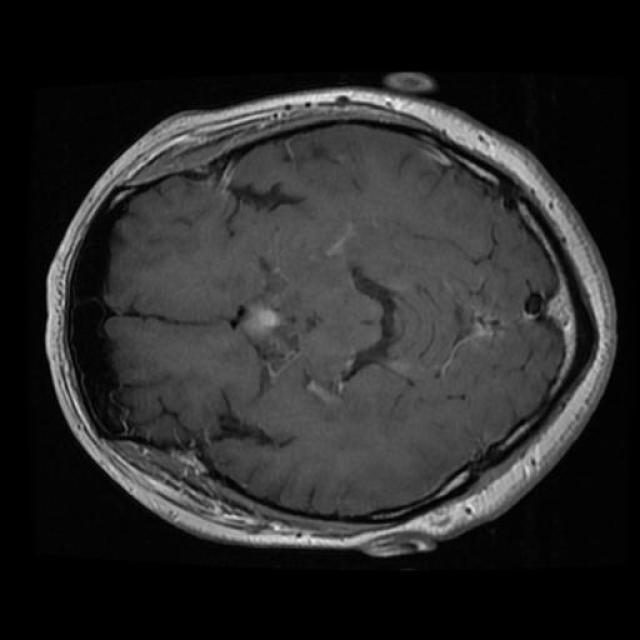Pituitary: (236, 302, 281, 341)
